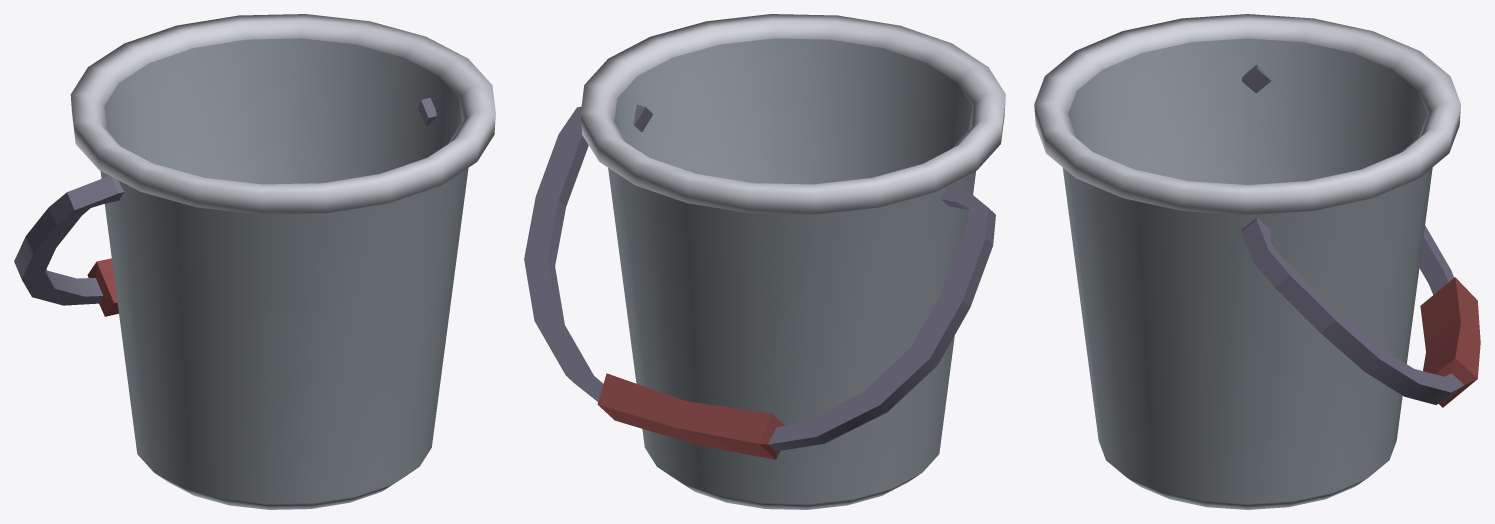
Rendered from Pail.fbx.
3 renders of one model, left to right at view 1: azimuth 30°, elevation 25°; view 2: azimuth 150°, elevation 25°; view 3: azimuth 270°, elevation 25°, orthographic.
Visible parts, largest first — view 1: Pale; view 2: Pale; view 3: Pale.
Part boxes in pixels (x1,y1,x2,y2): Pale: (14, 14, 495, 509); Pale: (524, 14, 1005, 509); Pale: (1034, 14, 1480, 509).
Bounding box in the file's own units: 36.87 × 28.97 × 33.44.
